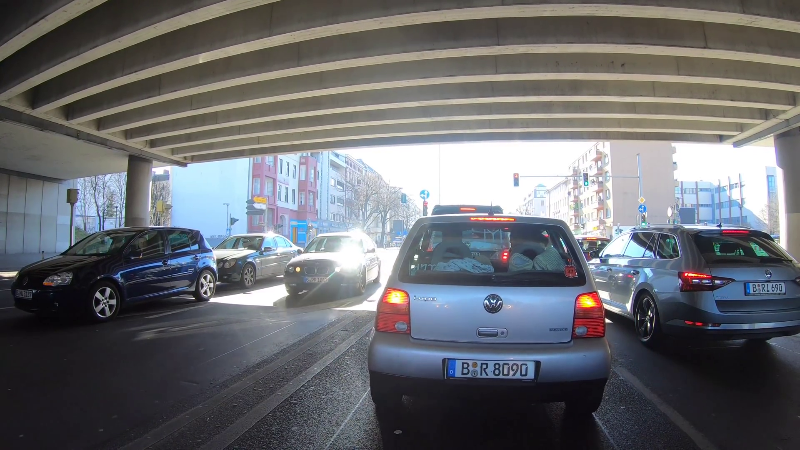Plate: (443, 357, 539, 380), (742, 280, 790, 296), (13, 287, 34, 298), (304, 276, 331, 284)
